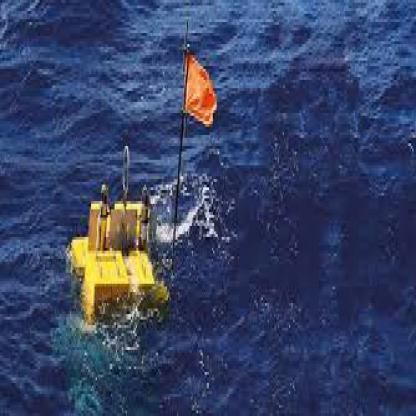buoy: (58, 126, 177, 342)
